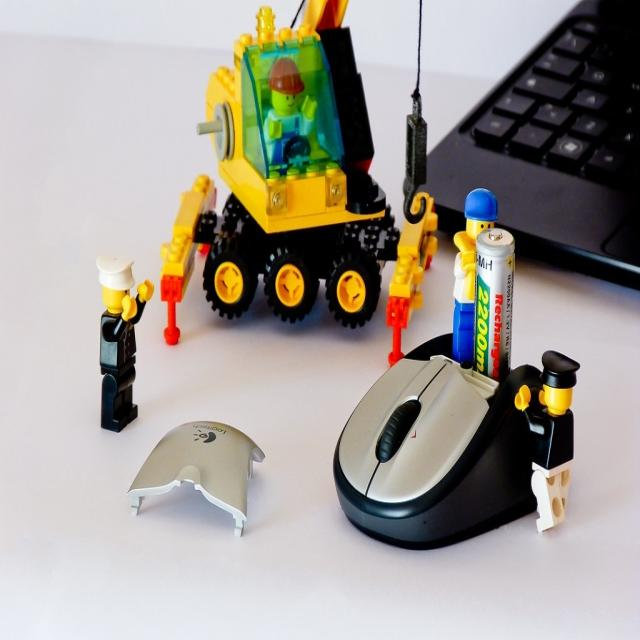E-waste: (59, 10, 640, 561)
